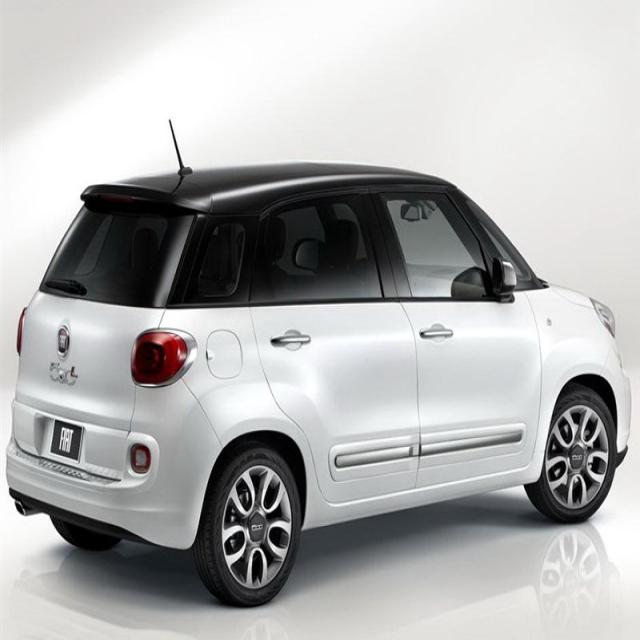back_glass: (38, 199, 203, 309)
back_left_side_light: (16, 305, 29, 360)
back_right_side_light: (130, 326, 198, 386)
door: (249, 194, 422, 506)
front_right_side_door: (364, 182, 544, 496)
front_right_side_light: (588, 293, 618, 340)
front_right_side_mirror: (492, 255, 518, 307)
rear_bumper: (4, 382, 221, 546)
wheel: (202, 447, 301, 608), (534, 390, 612, 522)
